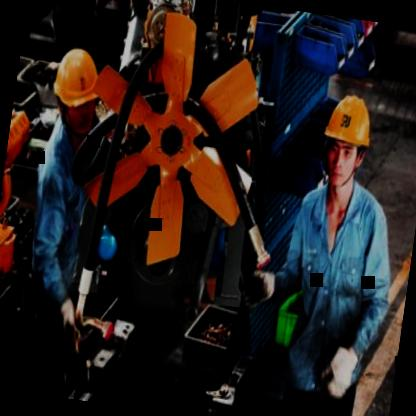helmet: (39, 36, 106, 146), (313, 87, 379, 198)
